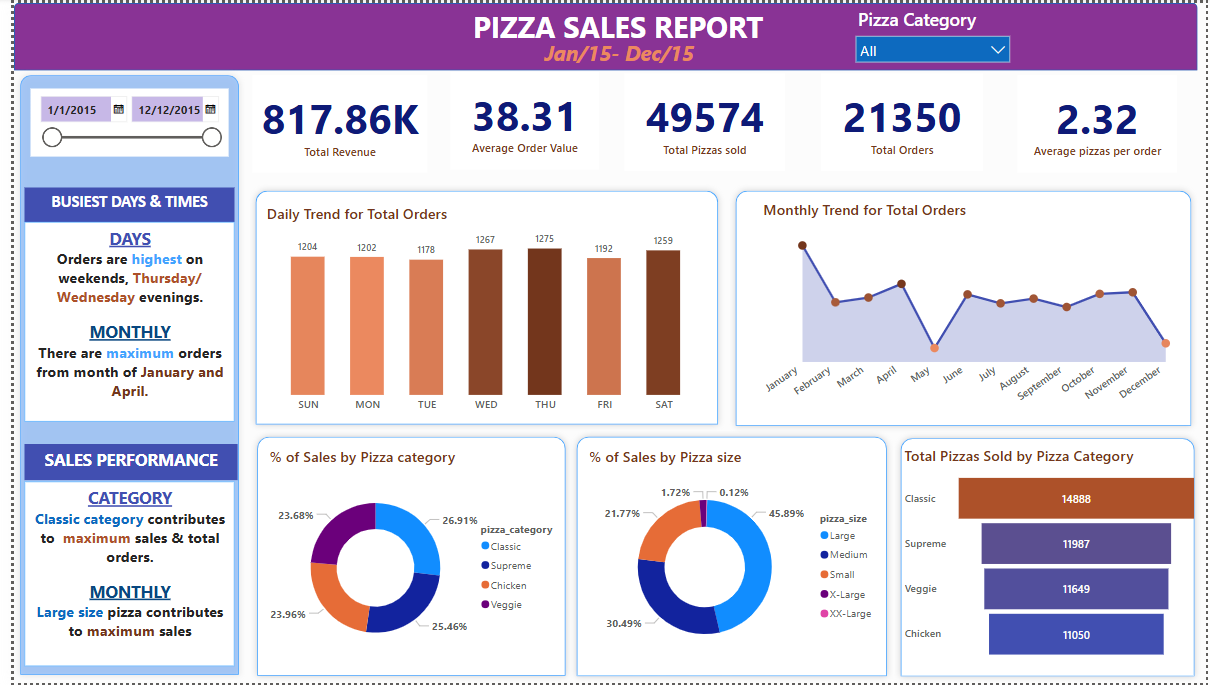

The page's visual inventory and layout, read from the dashboard file:
{"tool":"powerbi","page":{"name":"Home","canvas":[1540,878],"ordinal":0},"visuals":[{"type":"group","id":"g1","title":"Group 1","box":[308.2,89.1,1194.8,130.2],"z":0},{"type":"card","fields":{"Values":["pizza_sales.Total Revenue"]},"box":[308.2,93,225.7,126.3],"z":0,"group":"g1"},{"type":"shape","box":[0,0,1529.2,87.2],"z":1000},{"type":"card","fields":{"Values":["pizza_sales.Average Order Value"]},"box":[563.7,89.1,191.9,126],"z":1000,"group":"g1"},{"type":"textbox","box":[582.7,0,394.4,59.8],"z":2000},{"type":"card","fields":{"Values":["pizza_sales.Total Pizzas sold"]},"box":[788.5,90.9,207.4,126],"z":2000,"group":"g1"},{"type":"textbox","box":[658.9,41.6,246.2,45.3],"z":3000},{"type":"card","fields":{"Values":["pizza_sales.Total Orders"]},"box":[1042.4,90.9,209.3,126],"z":3000,"group":"g1"},{"type":"card","fields":{"Values":["pizza_sales.Average pizzas per order"]},"box":[1296.8,93,206.2,126],"z":4000,"group":"g1"},{"type":"shape","title":"Daily Trend fir Total Orders","box":[304.4,234.5,613.4,318.1],"z":4000},{"type":"shape","title":"Daily Trend fir Total Orders","box":[719.3,551.6,416.7,325.6],"z":4000,"group":"g5"},{"type":"shape","title":"Daily Trend fir Total Orders","box":[306.2,552.4,414.5,325],"z":4000,"group":"g4"},{"type":"shape","title":"Daily Trend fir Total Orders","box":[0,85.3,298.5,790.8],"z":5000},{"type":"donutChart","title":"% of Sales by Pizza size","fields":{"Y":["pizza_sales.Total Revenue"],"Category":["pizza_sales.pizza_size"]},"box":[738.1,573.6,387.6,284.9],"z":5000,"group":"g5"},{"type":"shape","title":"Daily Trend fir Total Orders","box":[924.5,234.5,604.7,319.8],"z":6000,"group":"g2"},{"type":"columnChart","title":"Daily Trend for Total Orders","fields":{"Category":["pizza_sales.Order Day"],"Y":["pizza_sales.Total Orders"]},"box":[322.3,259.5,576.6,278.3],"z":6000},{"type":"shape","title":"Daily Trend fir Total Orders","box":[1138.3,553.7,395.8,324],"z":6000,"group":"g6"},{"type":"donutChart","title":"% of Sales by Pizza category","fields":{"Category":["pizza_sales.pizza_category"],"Y":["pizza_sales.Total Revenue"]},"box":[325.6,573.3,391.2,287],"z":6000,"group":"g4"},{"type":"group","id":"g2","title":"Group 2","box":[924.5,234.5,604.7,319.8],"z":7000},{"type":"areaChart","title":"Monthly Trend for Total Orders","fields":{"Category":["pizza_sales.Month Name"],"Y":["pizza_sales.Total Orders"]},"box":[962.5,253.8,546.7,280.6],"z":7000,"group":"g2"},{"type":"group","id":"g3","title":"Group 4","box":[1138.3,553.7,397,323.7],"z":8000},{"type":"textbox","box":[13.6,238.4,271.3,44.6],"z":9000},{"type":"funnel","title":"Total Pizzas Sold by Pizza Category","fields":{"Category":["pizza_sales.pizza_category"],"Y":["pizza_sales.Total Pizzas sold"]},"box":[1146,571.7,388.9,285.9],"z":9000,"group":"g6"},{"type":"textbox","box":[13.6,283,271.3,257.8],"z":10000},{"type":"textbox","box":[13.6,618.3,271.3,238.4],"z":11000},{"type":"group","id":"g4","title":"Group 5","box":[306.2,552.4,410.9,325.6],"z":12000},{"type":"group","id":"g5","title":"Group 7","box":[719.3,551.6,416.7,325.6],"z":13000},{"type":"group","id":"g6","title":"Group 6","box":[1138.3,553.7,397,323.7],"z":13003,"group":"g3"},{"type":"slicer","fields":{"Values":["pizza_sales.pizza_category"]},"box":[1077.6,0,219,85.3],"z":14000},{"type":"textbox","box":[12.8,570.8,275.1,46.5],"z":15000},{"type":"slicer","fields":{"Values":["pizza_sales.order_date"]},"box":[21.3,110.5,255.8,88],"z":16000}]}

Visuals, with their boxes in screenshot pixels (x1, y1, x2, y2), scaled from the page's 1540x878 canvas onto the 1210x685 screenshot:
"Group 1" group: <box>242,70,1181,171</box>
card - pizza_sales.Total Revenue: <box>242,73,419,171</box>
shape: <box>0,0,1202,68</box>
card - pizza_sales.Average Order Value: <box>443,70,594,168</box>
textbox: <box>458,0,768,47</box>
card - pizza_sales.Total Pizzas sold: <box>620,71,782,169</box>
textbox: <box>518,32,711,68</box>
card - pizza_sales.Total Orders: <box>819,71,983,169</box>
card - pizza_sales.Average pizzas per order: <box>1019,73,1181,171</box>
"Daily Trend fir Total Orders" shape: <box>239,183,721,431</box>
"Daily Trend fir Total Orders" shape: <box>565,430,893,684</box>
"Daily Trend fir Total Orders" shape: <box>241,431,566,684</box>
"Daily Trend fir Total Orders" shape: <box>0,67,235,684</box>
"% of Sales by Pizza size" donutChart: <box>580,448,884,670</box>
"Daily Trend fir Total Orders" shape: <box>726,183,1202,432</box>
"Daily Trend for Total Orders" columnChart: <box>253,202,706,420</box>
"Daily Trend fir Total Orders" shape: <box>894,432,1205,684</box>
"% of Sales by Pizza category" donutChart: <box>256,447,563,671</box>
"Group 2" group: <box>726,183,1202,432</box>
"Monthly Trend for Total Orders" areaChart: <box>756,198,1186,417</box>
"Group 4" group: <box>894,432,1206,684</box>
textbox: <box>11,186,224,221</box>
"Total Pizzas Sold by Pizza Category" funnel: <box>900,446,1206,669</box>
textbox: <box>11,221,224,422</box>
textbox: <box>11,482,224,668</box>
"Group 5" group: <box>241,431,563,684</box>
"Group 7" group: <box>565,430,893,684</box>
"Group 6" group: <box>894,432,1206,684</box>
slicer - pizza_sales.pizza_category: <box>847,0,1019,67</box>
textbox: <box>10,445,226,482</box>
slicer - pizza_sales.order_date: <box>17,86,218,155</box>
